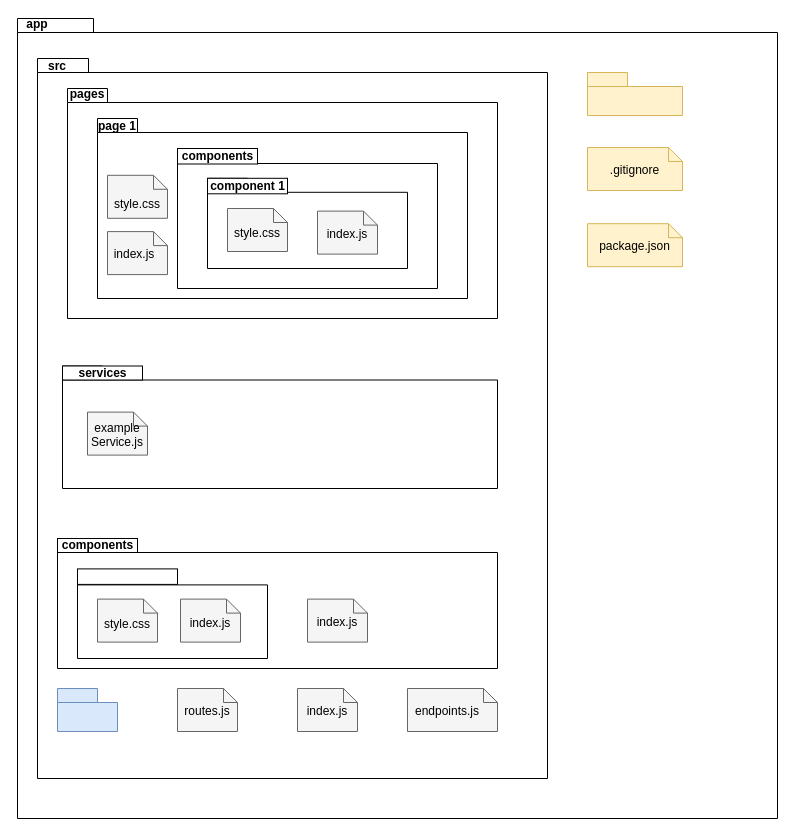
This 795x836 diagram has some shape labels left out. The box of each missing label's shape, as (x1, y1, x2, y2) in pixels:
assets: (56, 688, 118, 732)
componentOne: (76, 568, 178, 584)
node_modules: (586, 72, 682, 116)
